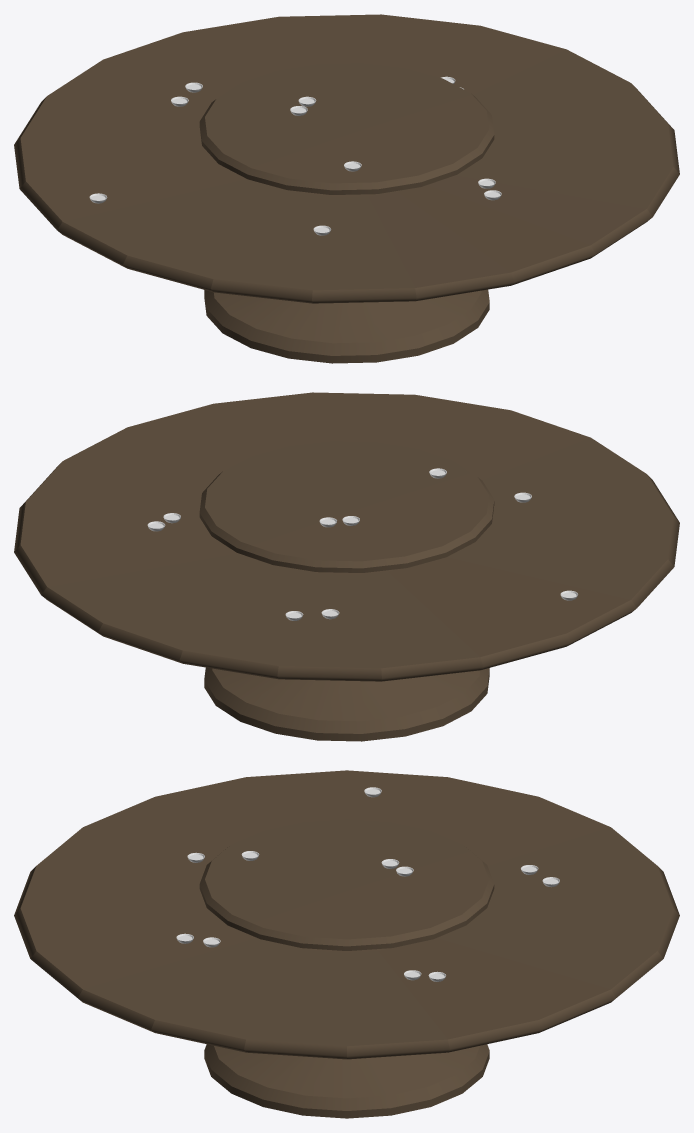
Rendered from Table_Texture.fbx.
3 renders of one model, top to bottom at view 1: azimuth 30°, elevation 25°; view 2: azimuth 150°, elevation 25°; view 3: azimuth 270°, elevation 25°, orthographic.
Parts seen in each view (by area): view 1: Table1, Sauce; view 2: Table1, Sauce; view 3: Table1, Sauce.
Part boxes in pixels (x1,y1,x2,y2): Table1: (14, 14, 679, 363); Sauce: (89, 76, 501, 235); Table1: (14, 392, 679, 741); Sauce: (147, 468, 577, 620); Table1: (14, 770, 679, 1118); Sauce: (176, 787, 559, 981).
Size of the model in its own units: 8.21 by 2.49 by 8.21.
